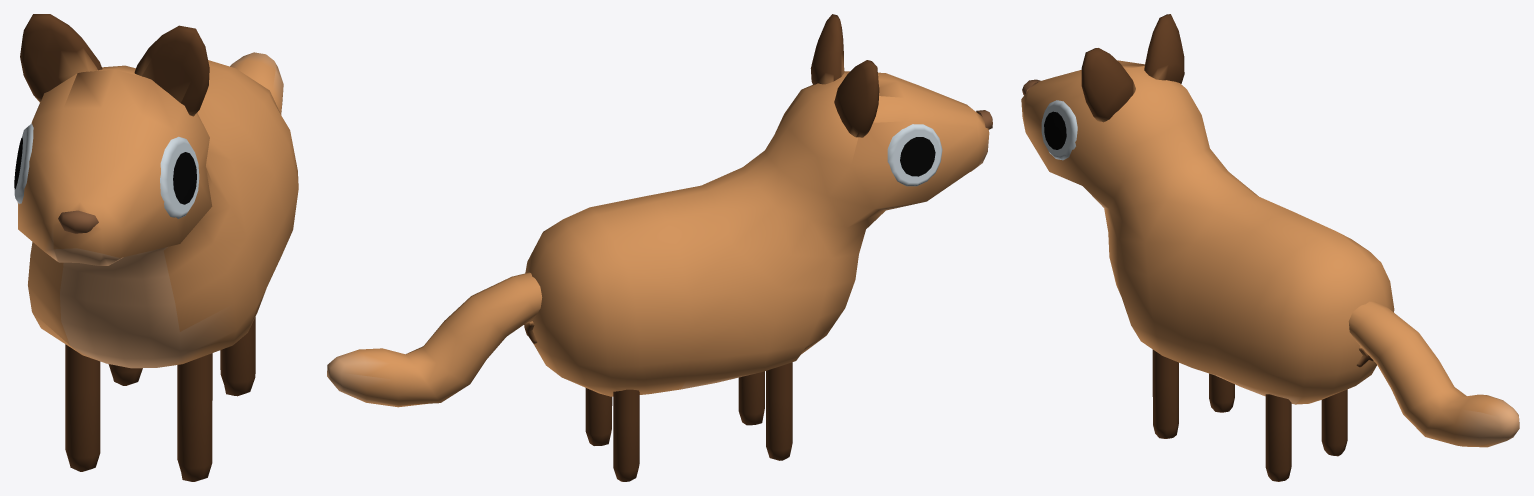
Rendered from Fox.glb.
3 renders of one model, left to right at view 1: azimuth 30°, elevation 25°; view 2: azimuth 150°, elevation 25°; view 3: azimuth 270°, elevation 25°, orthographic. The views are drawn at different scales.
Parts seen in each view (by area): view 1: 51; view 2: 51; view 3: 51.
Boxes of the visible parts, bbox=[...] form: 51: bbox=[14, 14, 298, 481]; 51: bbox=[327, 14, 992, 481]; 51: bbox=[1021, 14, 1519, 481].
Bounding box in the file's own units: 0.966 × 0.8703 × 1.06.
